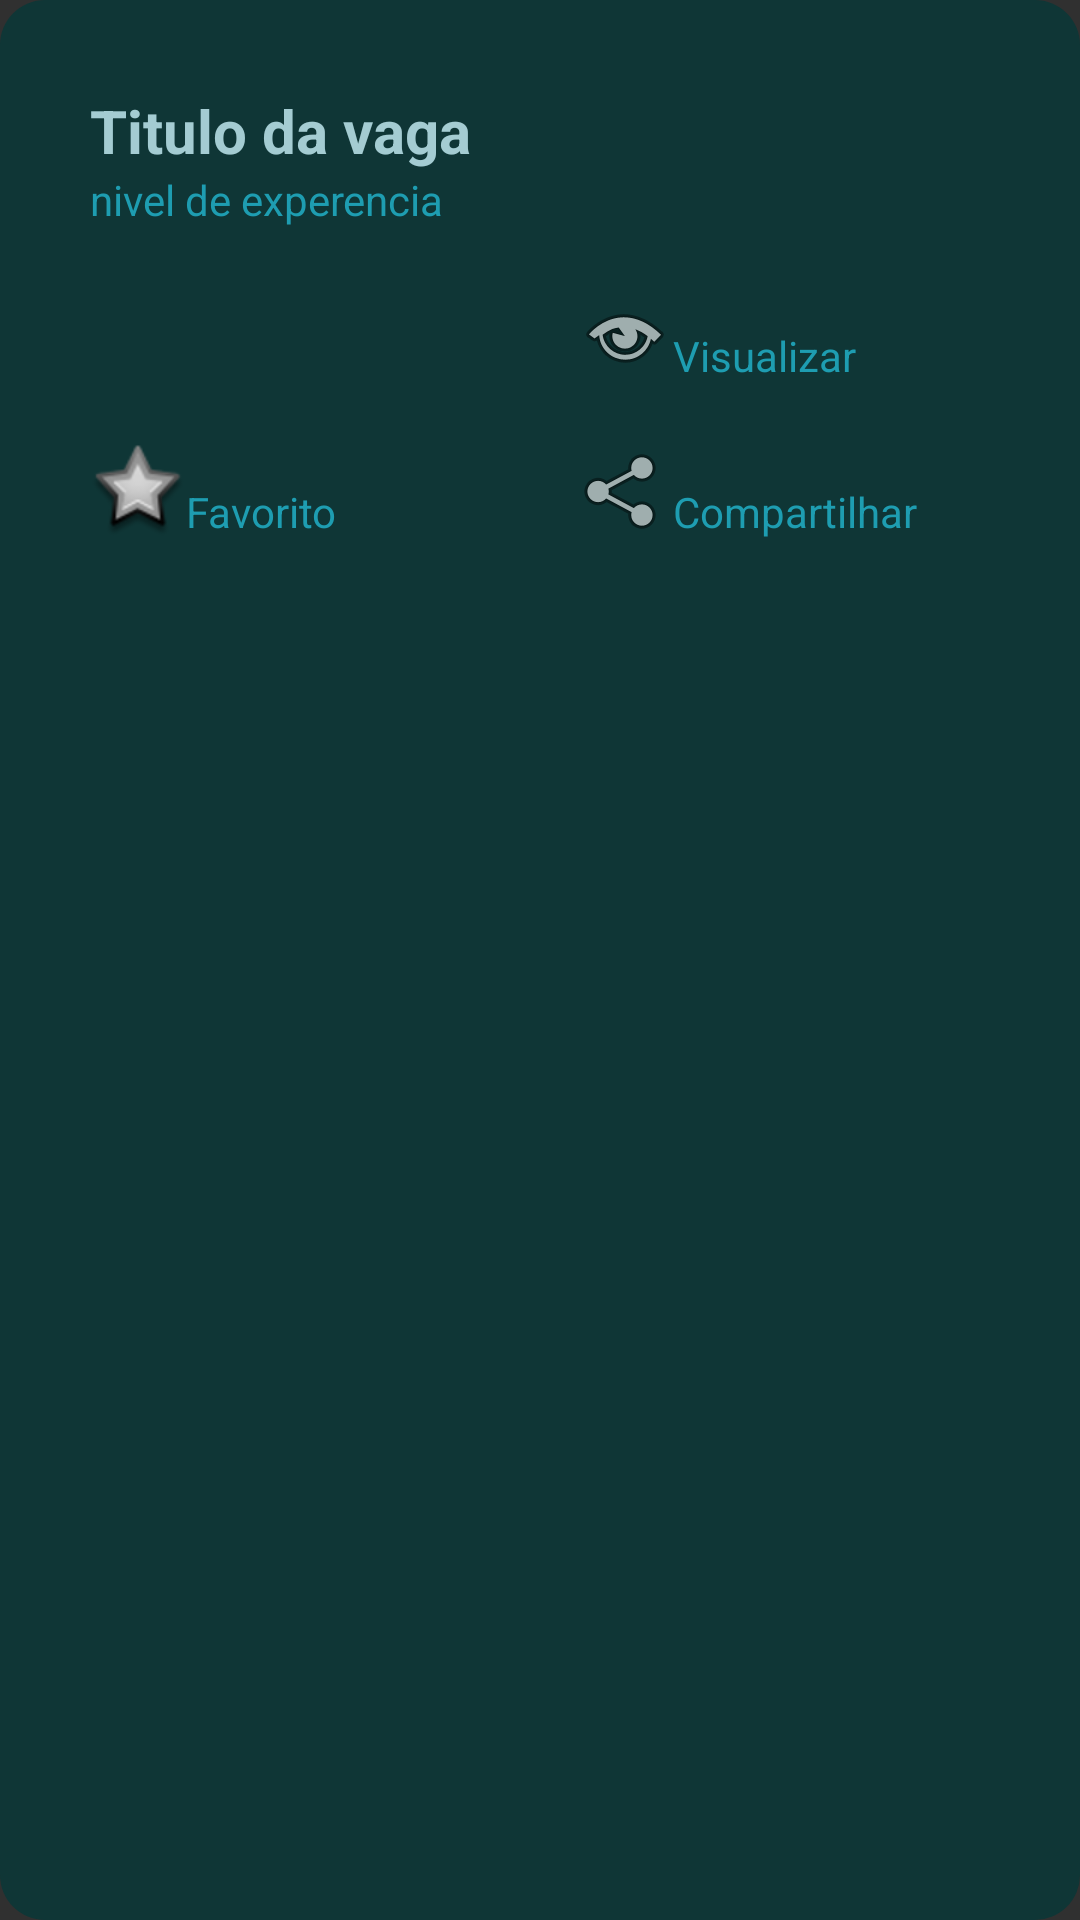

Locate icon controls on the screen. Image size 1080x1920, boxes as Rect(x1, y1, x2, y2).
share: Rect(586, 456, 654, 527)
star off: Rect(96, 445, 180, 526)
